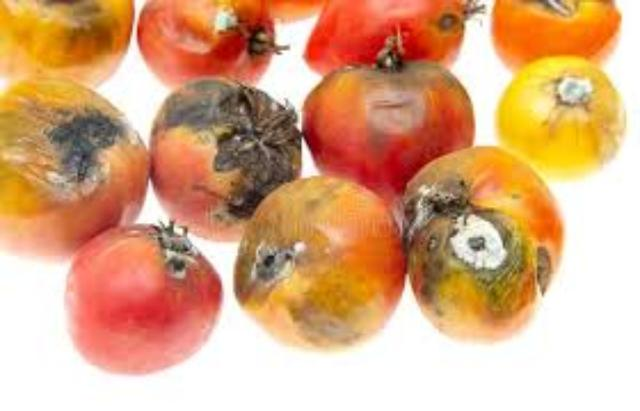defect: (404, 143, 566, 346), (0, 73, 149, 265), (140, 78, 300, 241), (300, 48, 475, 189), (138, 1, 276, 88)
